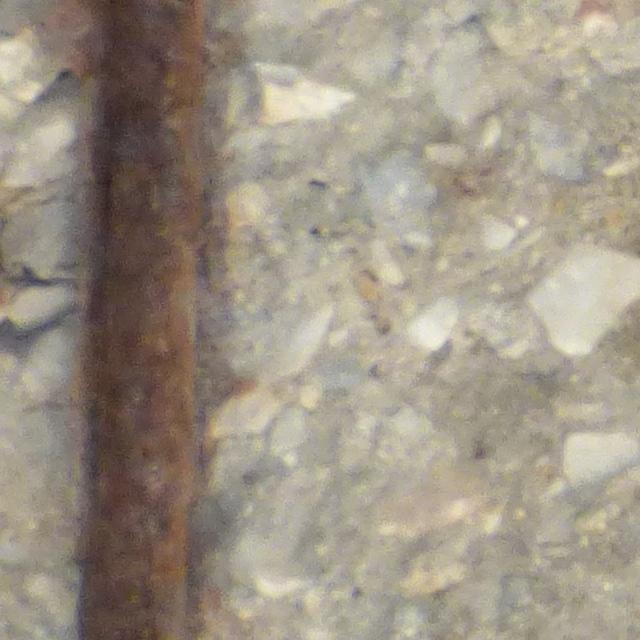Rust: (72, 5, 212, 640)
